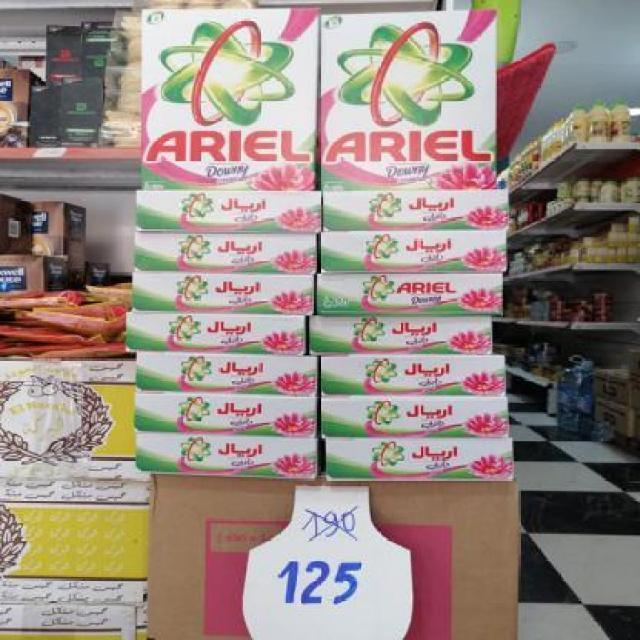Detergent: (137, 6, 317, 189), (320, 12, 492, 180), (135, 428, 318, 480), (320, 392, 511, 440), (129, 391, 316, 438), (325, 437, 514, 482), (322, 187, 510, 232), (315, 231, 508, 274), (132, 188, 320, 232), (314, 271, 496, 316), (322, 230, 504, 274), (306, 313, 492, 356), (133, 272, 313, 316), (121, 313, 316, 352), (133, 234, 316, 274), (315, 357, 502, 394), (136, 234, 316, 272), (138, 354, 310, 392)
